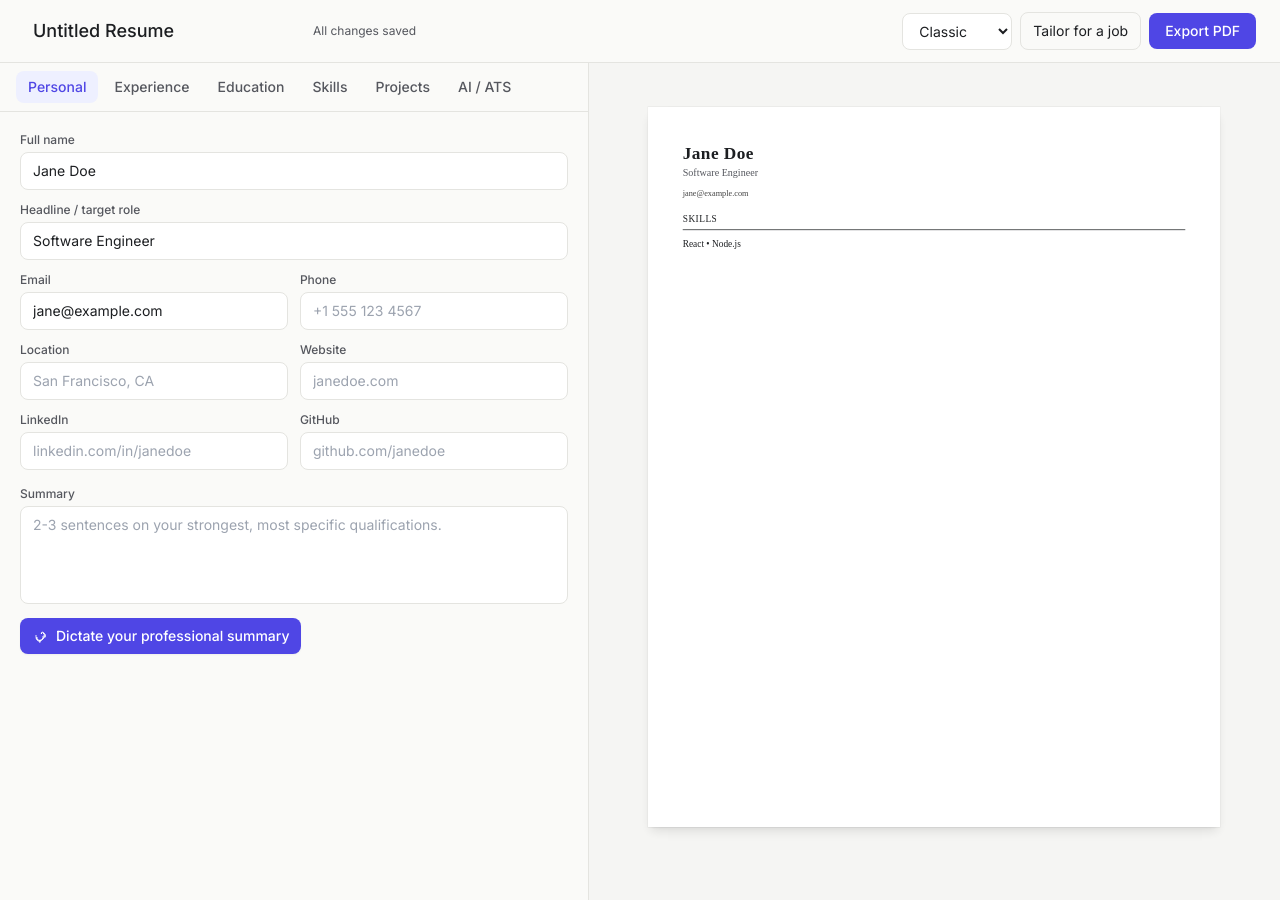
Editor: autosave reliability › explains a rejected change (4xx) without retrying forever
The image size is (1280, 900).
Expected: the element with test id "resume-preview" is shown, [649, 107, 1220, 827]
Select "Minimal" in the dropdown at (957, 31), box [902, 12, 1012, 50]
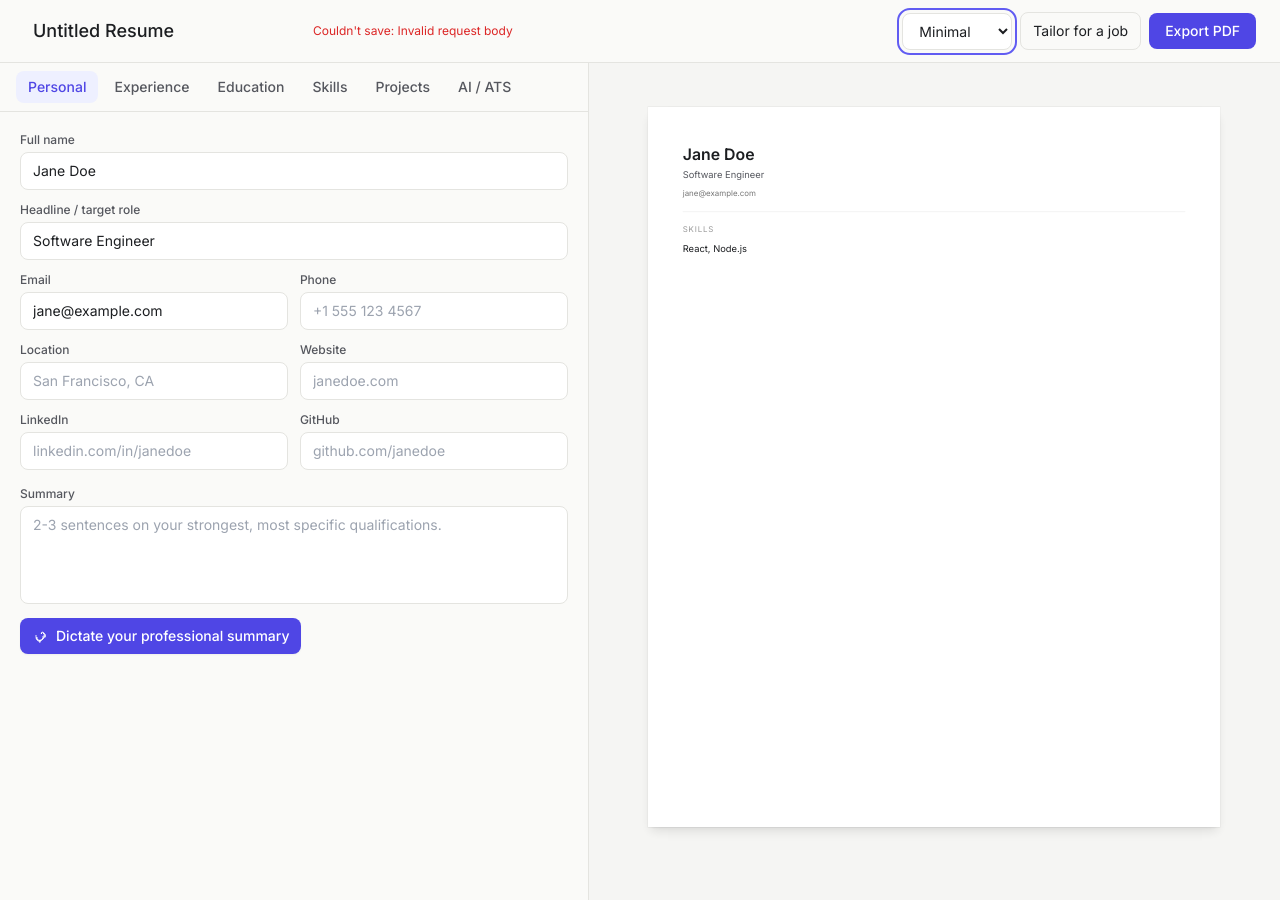
Now the text "Couldn't save: Invalid request body" is shown, box [313, 23, 513, 39]
